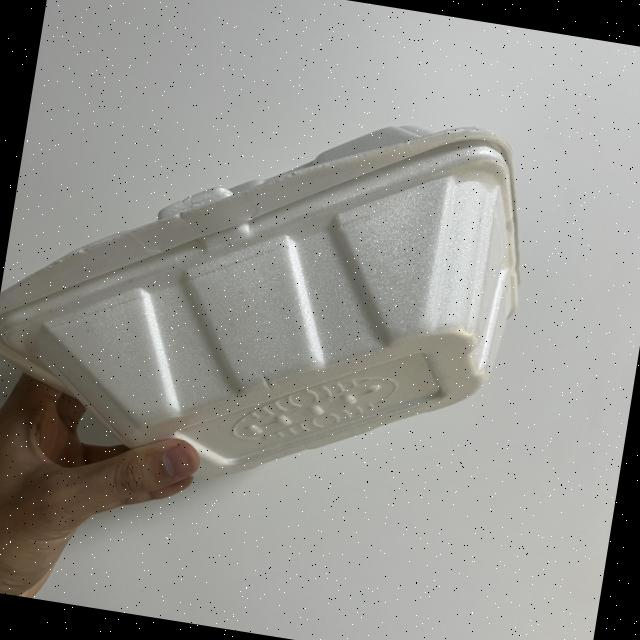styrofoam: (0, 55, 546, 525)
